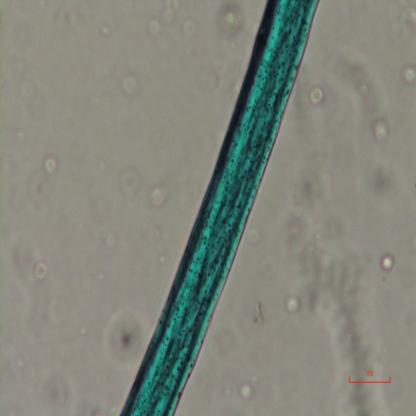Background material: (304, 241, 384, 415), (287, 146, 340, 259), (325, 43, 387, 117), (32, 358, 72, 412), (22, 286, 59, 338), (151, 2, 199, 42), (107, 312, 143, 362), (211, 5, 245, 42), (24, 68, 48, 116), (10, 237, 39, 276), (112, 66, 141, 102), (24, 165, 53, 199), (144, 180, 173, 212), (113, 162, 145, 191), (52, 1, 80, 32), (371, 166, 396, 198), (243, 302, 269, 330), (368, 118, 390, 146), (101, 225, 121, 249), (378, 251, 396, 275), (239, 378, 255, 402), (308, 83, 326, 104), (32, 259, 48, 280), (286, 293, 302, 314), (42, 156, 59, 174), (249, 230, 264, 249), (401, 67, 416, 85), (96, 22, 112, 38)
Microfibre: (118, 0, 324, 416)
